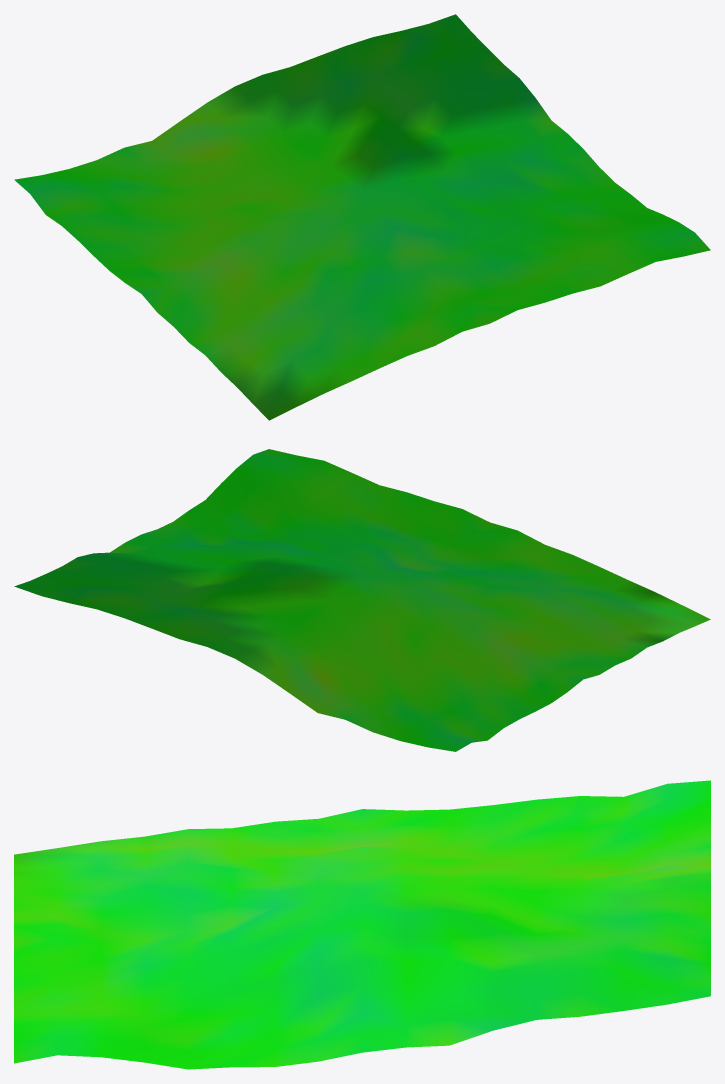
File: YGUUYGUY0.dae
3 renders of one model, top to bottom at view 1: azimuth 30°, elevation 25°; view 2: azimuth 150°, elevation 25°; view 3: azimuth 270°, elevation 25°, orthographic. The views are drawn at different scales.
Visible parts, largest first — view 1: Terrain; view 2: Terrain; view 3: Terrain.
Boxes of the visible parts, x1,y1,x2,y2 form: Terrain: [14, 14, 710, 420]; Terrain: [14, 449, 710, 751]; Terrain: [14, 780, 710, 1069].
Bounding box in the file's own units: 64 × 15.6 × 64.
